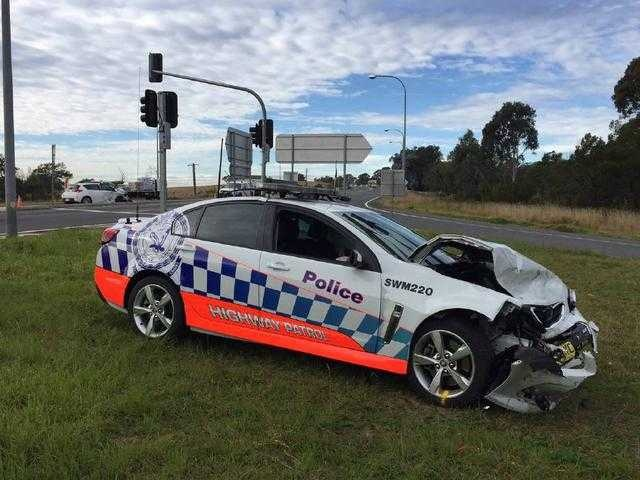Police Car: (83, 161, 619, 418)
